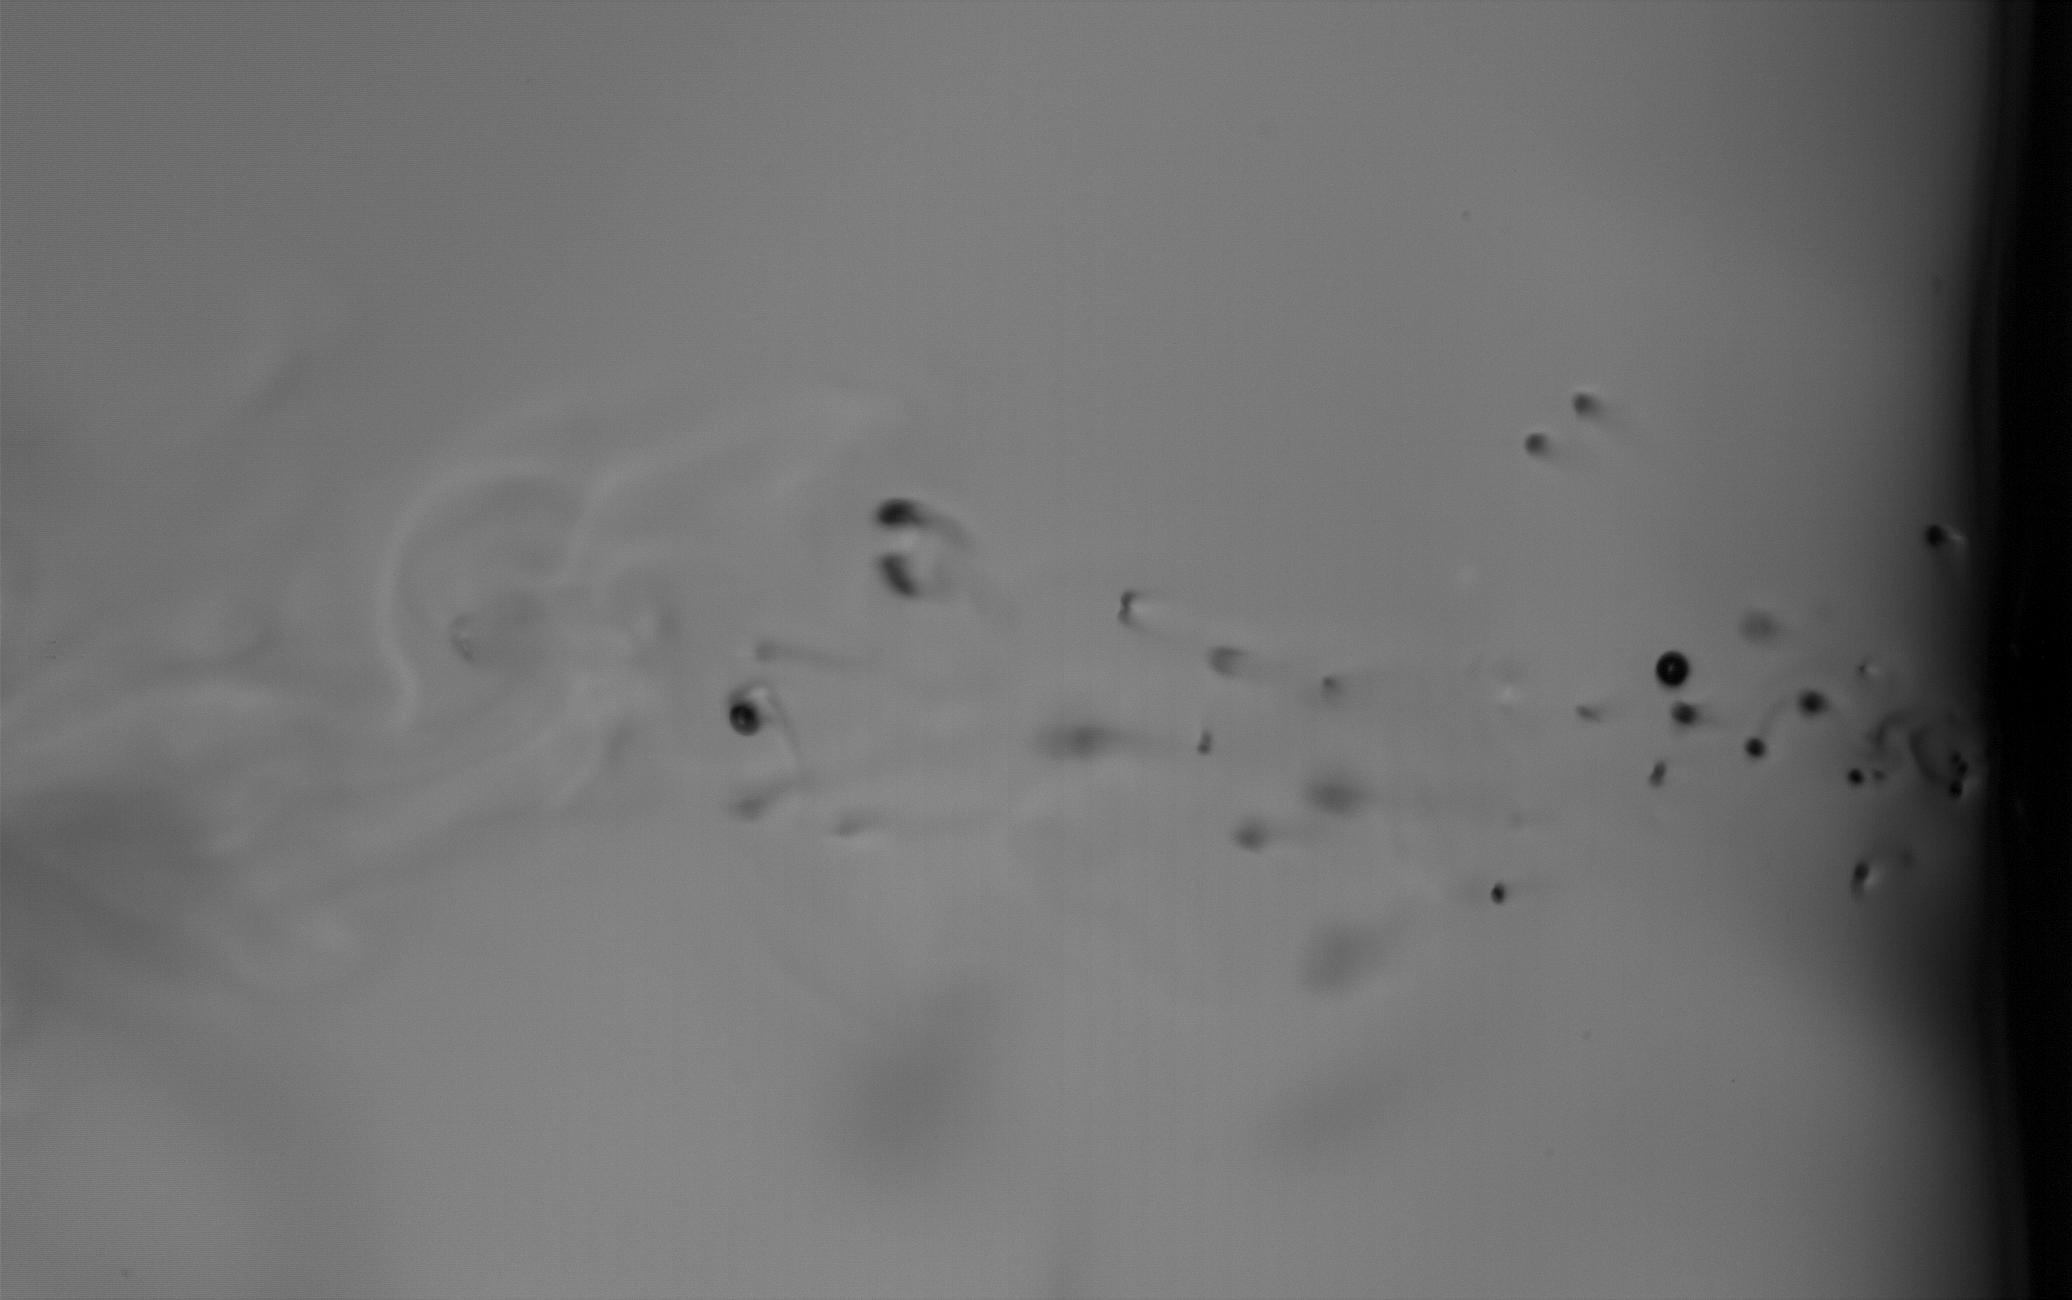Blurry: (1296, 927, 1380, 993), (826, 806, 880, 845)
ClassicalEvaporation: (1737, 598, 1779, 650), (1651, 647, 1693, 690), (1668, 698, 1701, 729), (1798, 689, 1829, 720), (1850, 858, 1874, 893), (1741, 737, 1770, 765), (1524, 433, 1550, 464), (1647, 756, 1668, 794), (1573, 704, 1602, 729), (1572, 392, 1594, 424), (1491, 881, 1512, 908), (1846, 767, 1870, 789)
DiffusiveMixing: (717, 768, 826, 828), (720, 681, 793, 744), (867, 493, 960, 536), (752, 640, 823, 677), (877, 553, 927, 599)
TransitionalMixing: (1045, 719, 1117, 765), (1301, 783, 1365, 828), (1204, 641, 1246, 687), (1231, 815, 1273, 861), (1117, 589, 1145, 638), (1310, 672, 1341, 702), (1195, 723, 1217, 759)
